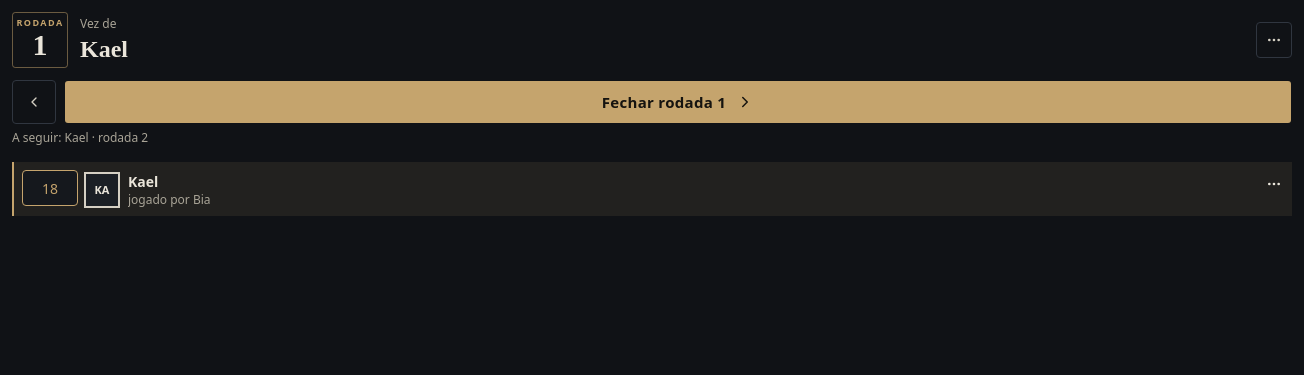
it: CombatPanel › adding in the middle of the fight › without a name the entry is not sent
Click the button named "Mais opções do combate" at (1274, 40), box [1256,22,1292,58]
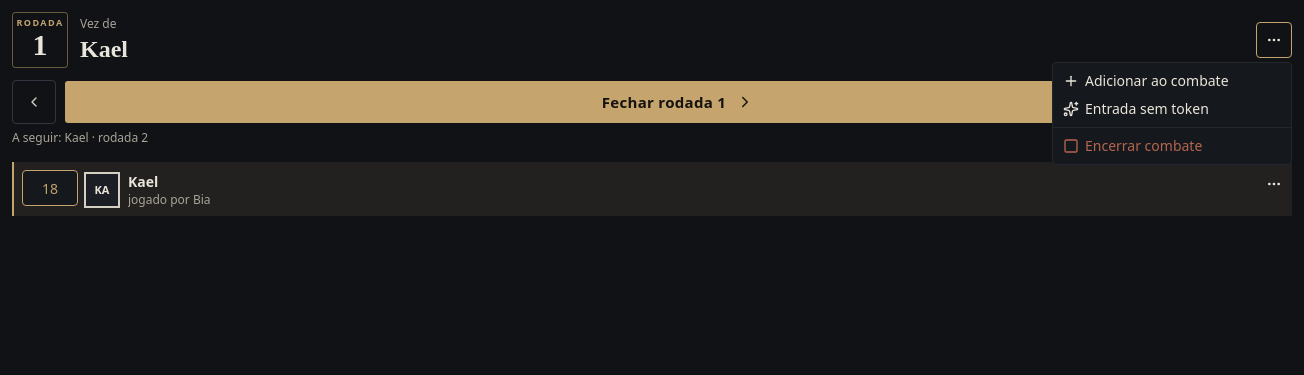
Click the menu item "Entrada sem token" at (1136, 108), box [1063,99,1209,118]
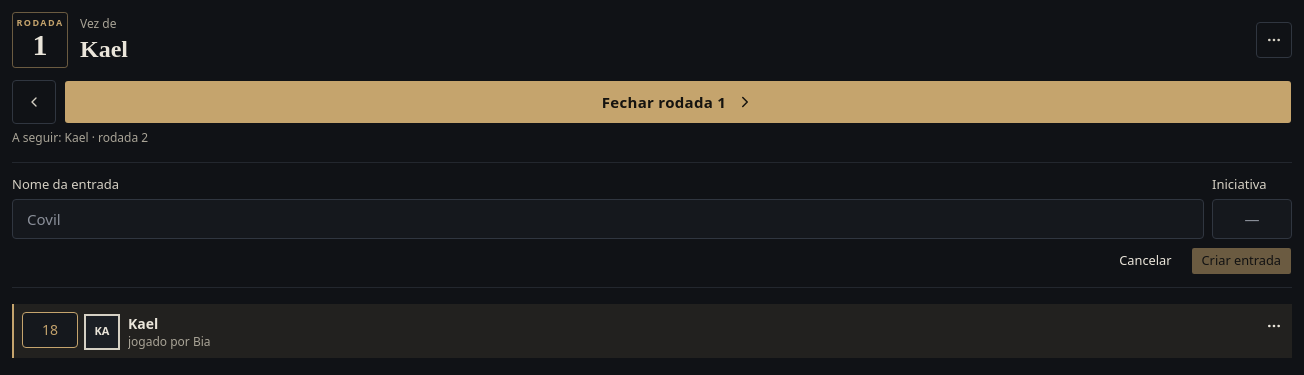
Result: the button "Criar entrada" is disabled at [1190,246,1292,274]
